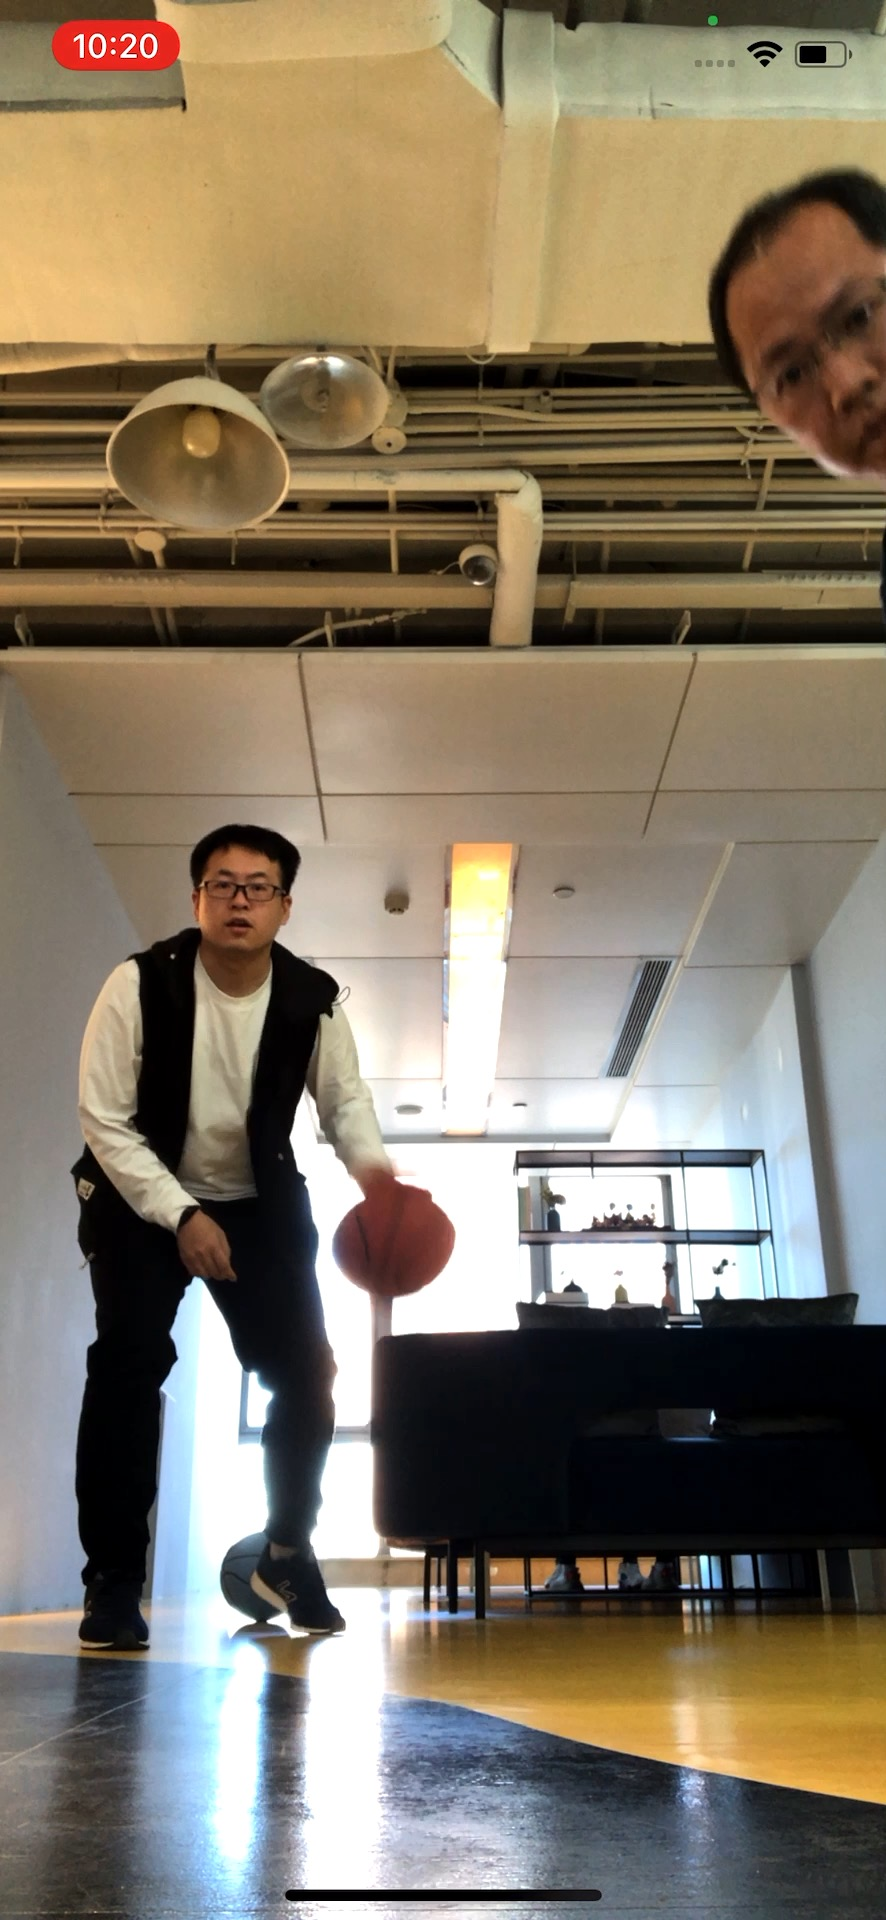ball: (330, 1187, 455, 1300)
